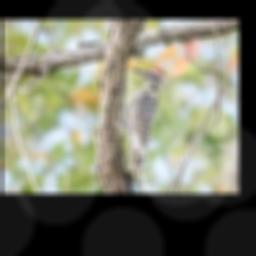Woodpecker: (121, 67, 165, 193)
